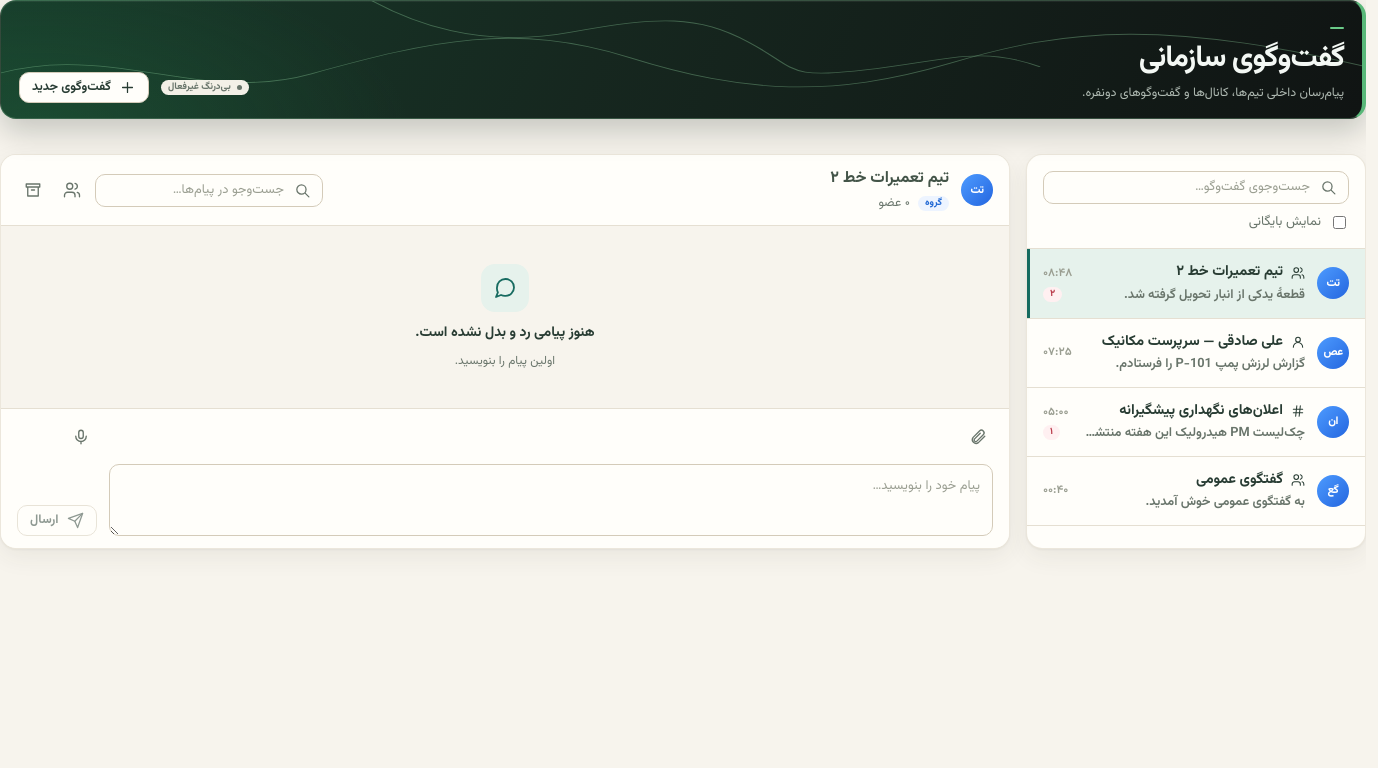
Test: chat page › sends a message from the composer into the thread
Type "گزارش امروز ارسال شد" into the text box labelled "پیام خود را بنویسید…" at coordinates (551, 500), box left=108, top=464, right=993, bottom=536
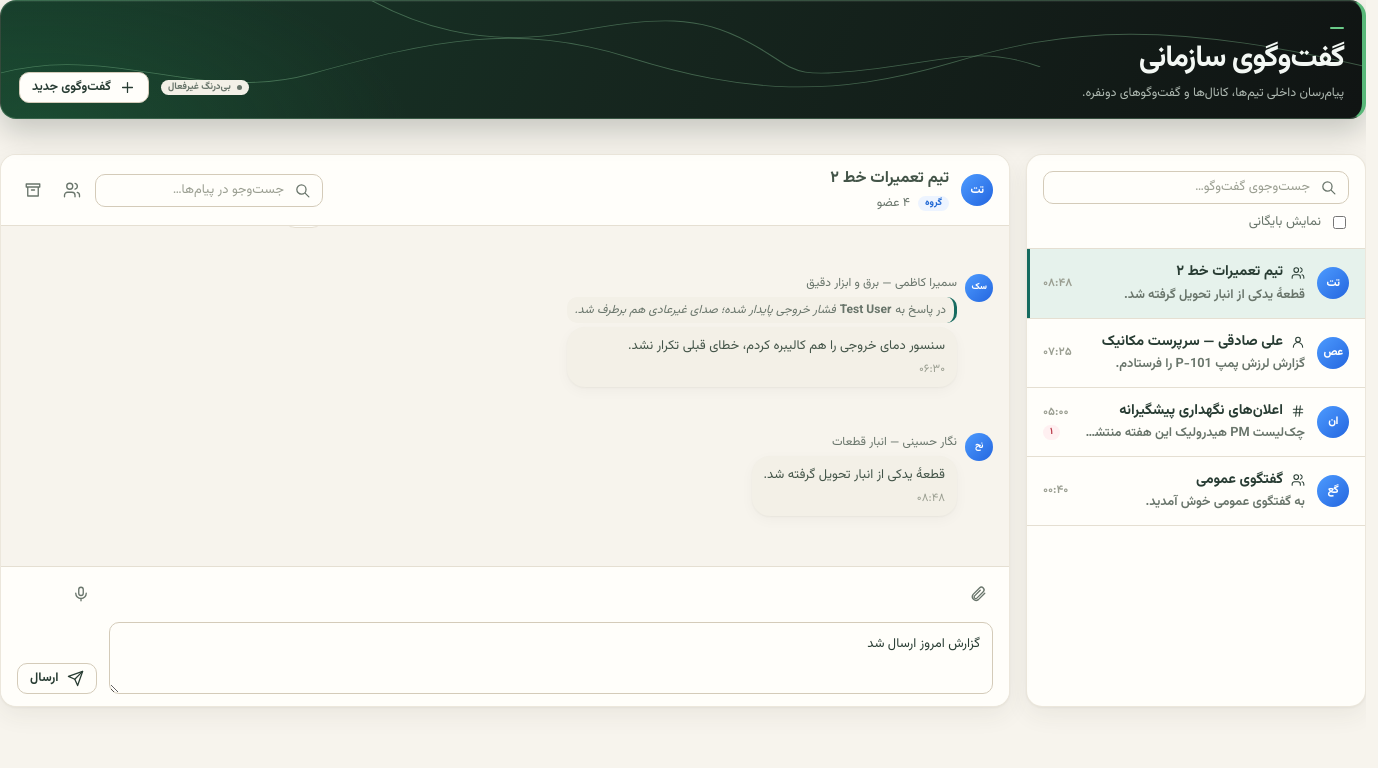
Click the button "ارسال" at coordinates (57, 678), box left=17, top=663, right=96, bottom=694
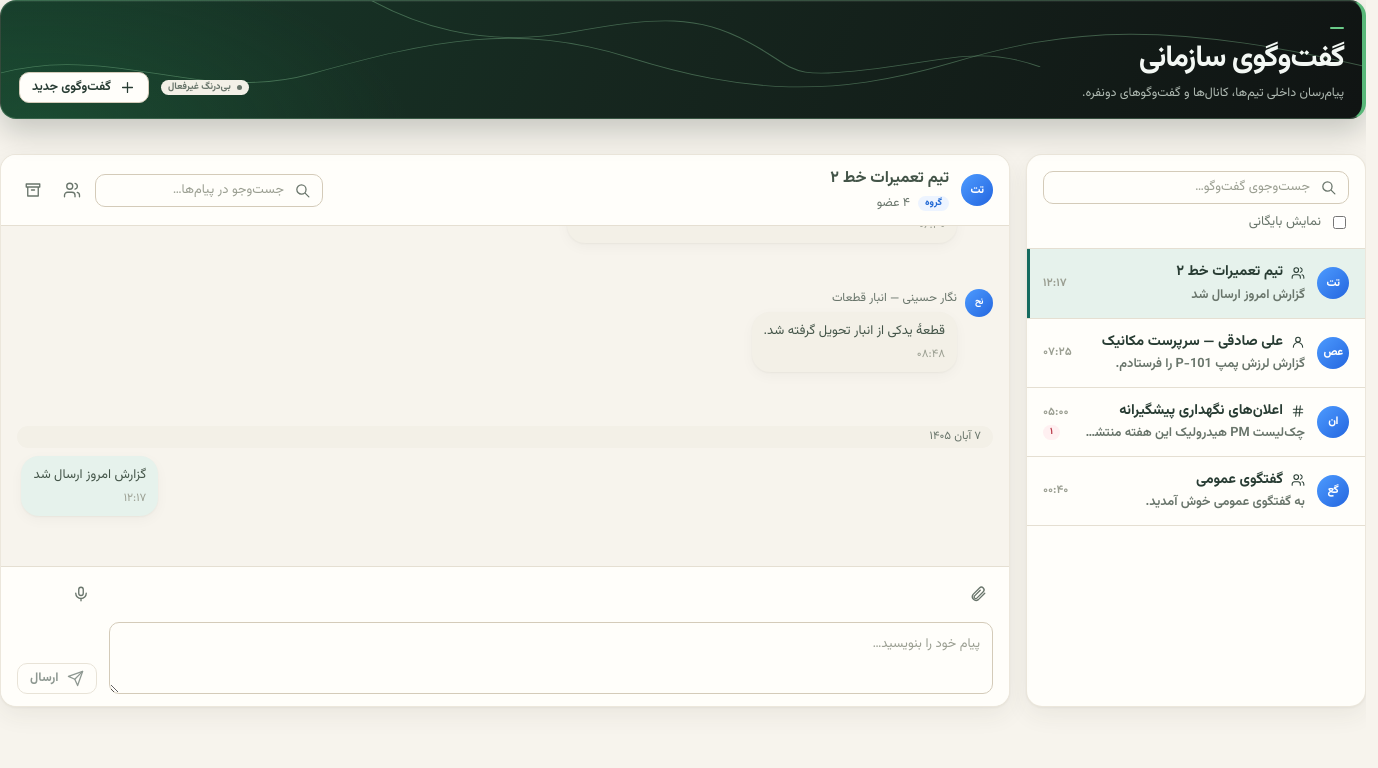
Now the text "گزارش امروز ارسال شد" below "نمایش بایگانی" is shown, box left=1191, top=285, right=1305, bottom=305
